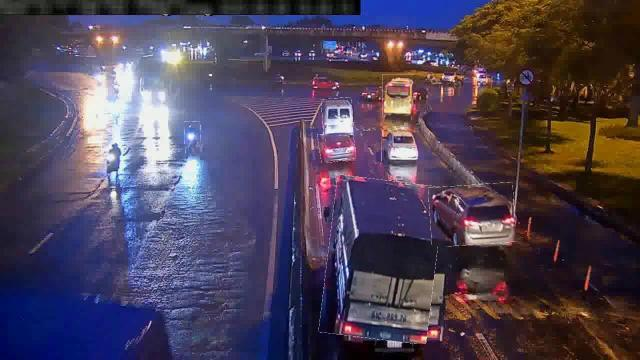Bike: (101, 138, 123, 180), (184, 122, 202, 156)
Bus: (382, 74, 414, 116), (322, 98, 353, 136)
Car: (429, 184, 515, 246), (382, 130, 422, 164), (318, 130, 356, 162)
Truck: (324, 178, 441, 342)
